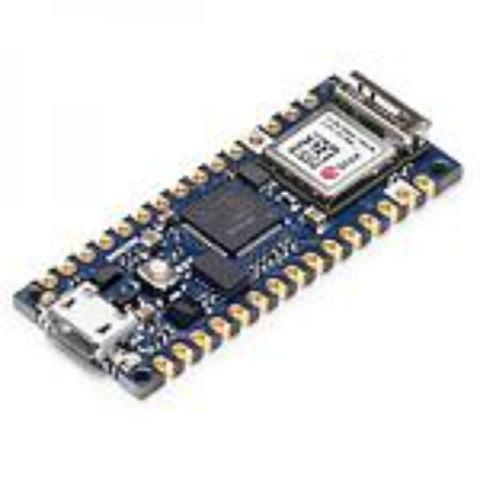Arduino-Nano: (8, 61, 470, 405)
